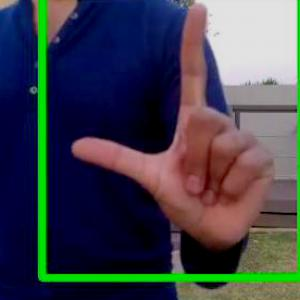land_hand: (59, 0, 284, 259)
